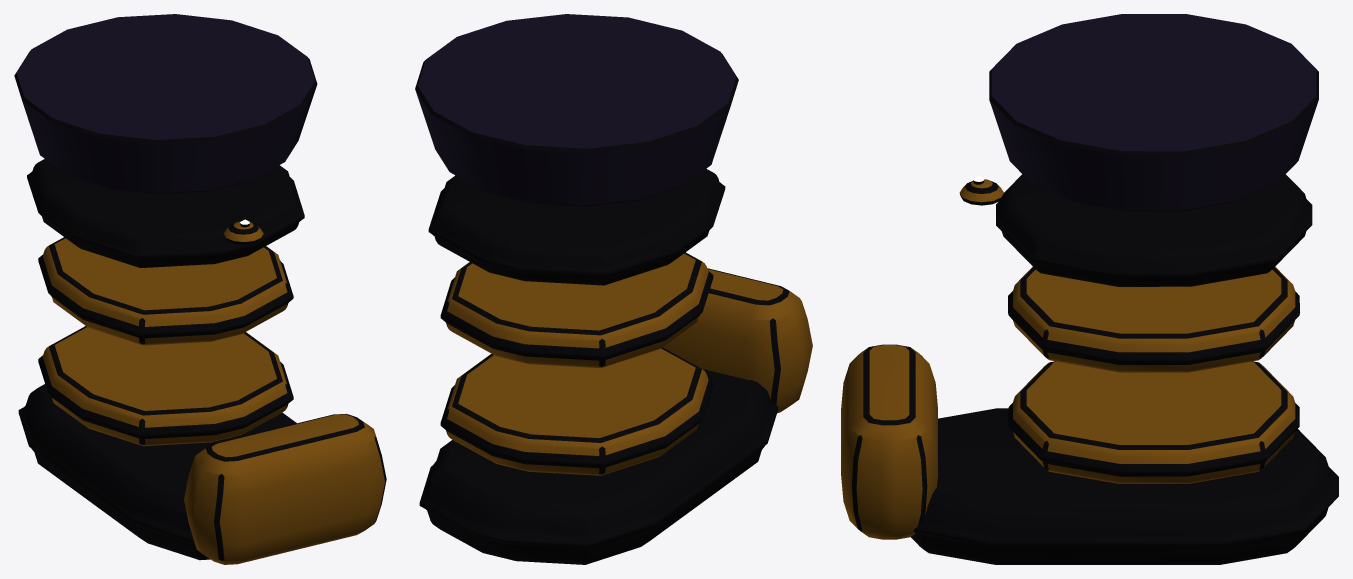
File: Veu_BotaR.fbx
3 views of the same model, side by side, from view 1: azimuth 30°, elevation 25°; view 2: azimuth 150°, elevation 25°; view 3: azimuth 270°, elevation 25° (orthographic). The views are drawn at different scales.
Visible parts, largest first — view 1: Piece; view 2: Piece; view 3: Piece.
Part boxes in pixels (x1,y1,x2,y2): Piece: (14,14,386,564); Piece: (415,14,812,564); Piece: (841,14,1338,564).
Size of the model in its own units: 0.2144 by 0.313 by 0.3237.
